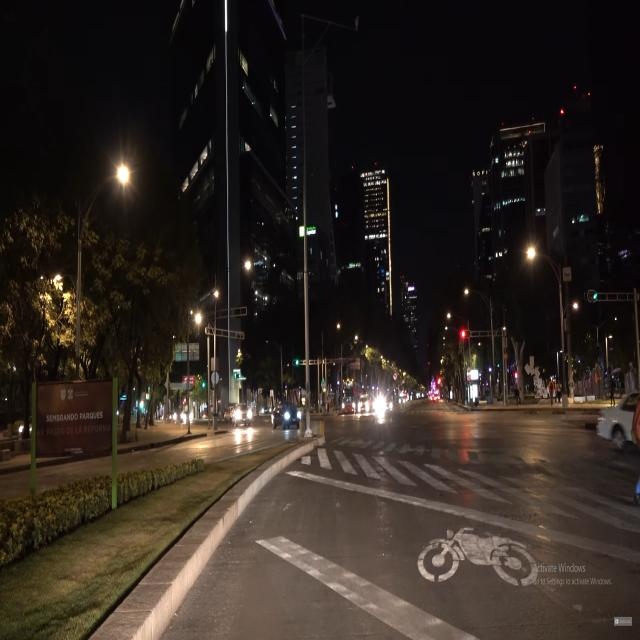headlights: (280, 407, 306, 432), (231, 407, 258, 426), (339, 395, 358, 418)
